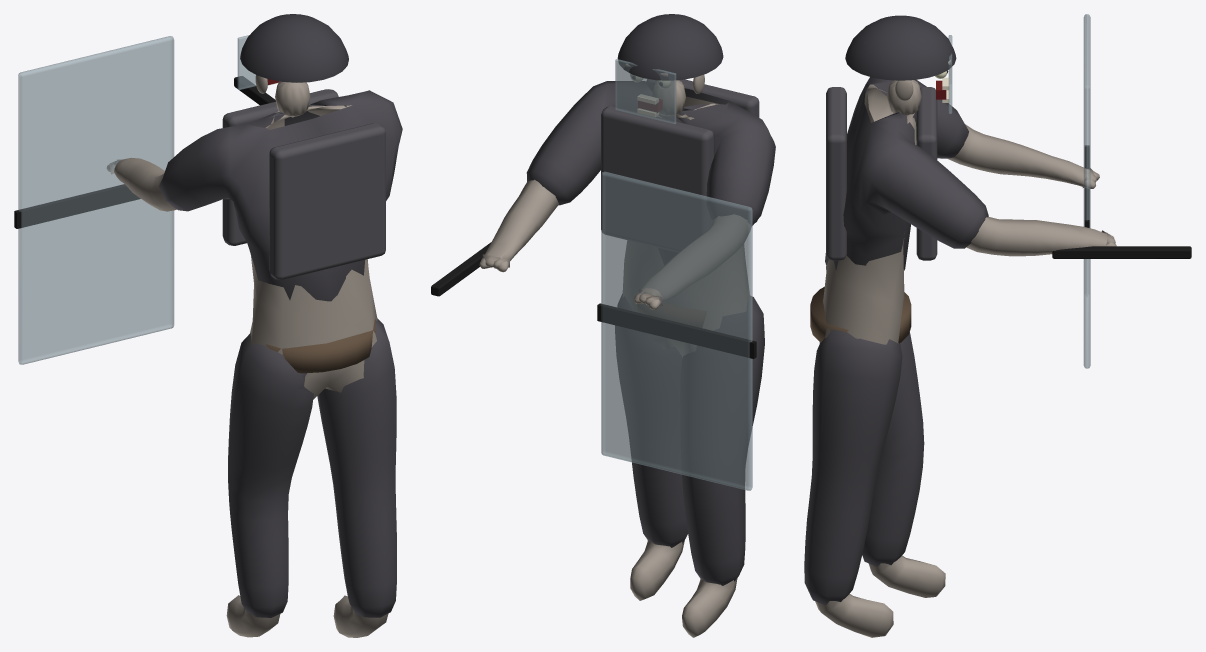
The model's file is zombie_cop.glb.
3 views of the same model, side by side, from view 1: azimuth 30°, elevation 25°; view 2: azimuth 150°, elevation 25°; view 3: azimuth 270°, elevation 25° (orthographic). The views are drawn at different scales.
Visible parts, largest first — view 1: shield, pants, shirt, vest_b, body, helmet, belt, shield_edge, vest, head, visor, baton; view 2: shield, pants, body, shirt, vest, helmet, shield_edge, visor, head, belt, vest_b, baton; view 3: pants, body, shirt, helmet, vest_b, shield, vest, baton, belt, head.
Part boxes in pixels (bbox=[...]): shield: bbox=[18, 36, 174, 364]; pants: bbox=[228, 318, 396, 617]; shirt: bbox=[159, 90, 402, 301]; vest_b: bbox=[269, 123, 385, 279]; body: bbox=[107, 104, 388, 637]; helmet: bbox=[240, 14, 348, 82]; belt: bbox=[266, 319, 376, 373]; shield_edge: bbox=[14, 184, 140, 228]; vest: bbox=[222, 89, 338, 245]; head: bbox=[255, 75, 310, 117]; visor: bbox=[237, 35, 256, 89]; baton: bbox=[234, 76, 275, 105]; shield: bbox=[601, 171, 752, 490]; pants: bbox=[615, 294, 764, 585]; body: bbox=[479, 96, 751, 637]; shirt: bbox=[526, 81, 775, 264]; vest: bbox=[601, 106, 714, 252]; helmet: bbox=[617, 14, 723, 80]; shield_edge: bbox=[597, 303, 756, 358]; visor: bbox=[615, 59, 676, 124]; head: bbox=[652, 74, 704, 115]; belt: bbox=[637, 292, 749, 327]; vest_b: bbox=[647, 79, 759, 222]; baton: bbox=[431, 242, 491, 296]; pants: bbox=[804, 330, 924, 605]; body: bbox=[815, 84, 1116, 637]; shirt: bbox=[825, 77, 988, 270]; helmet: bbox=[845, 15, 956, 80]; vest_b: bbox=[826, 87, 846, 260]; shield: bbox=[1083, 14, 1090, 368]; vest: bbox=[916, 87, 937, 260]; baton: bbox=[1052, 246, 1191, 258]; belt: bbox=[810, 287, 911, 343]; head: bbox=[887, 80, 921, 115].
Size of the model in its own units: 0.9494 by 1.9 by 1.11.
